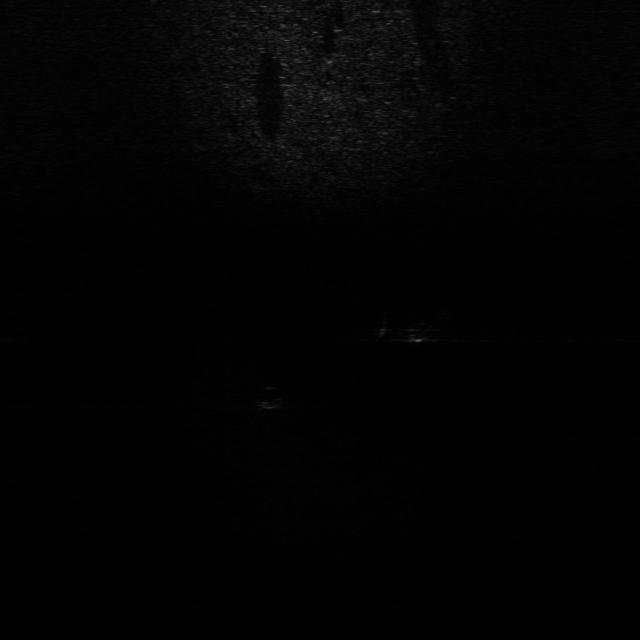ball: (248, 381, 292, 411)
human body: (366, 310, 454, 346)
